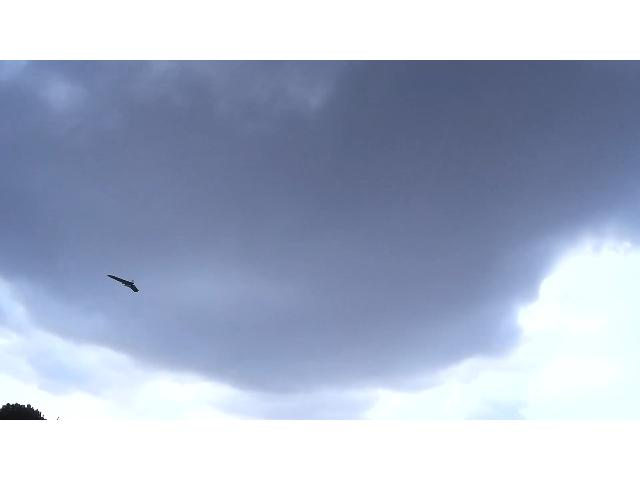Anti-Drone: (107, 275, 139, 292)
